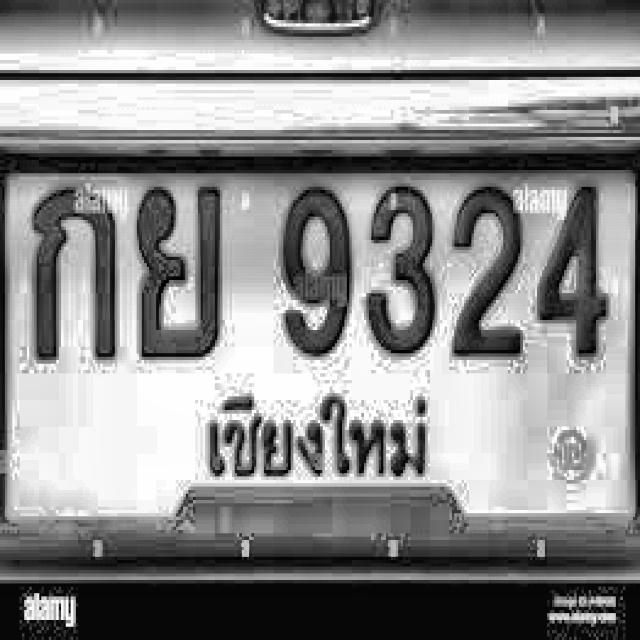license-plate: (0, 145, 640, 586)
